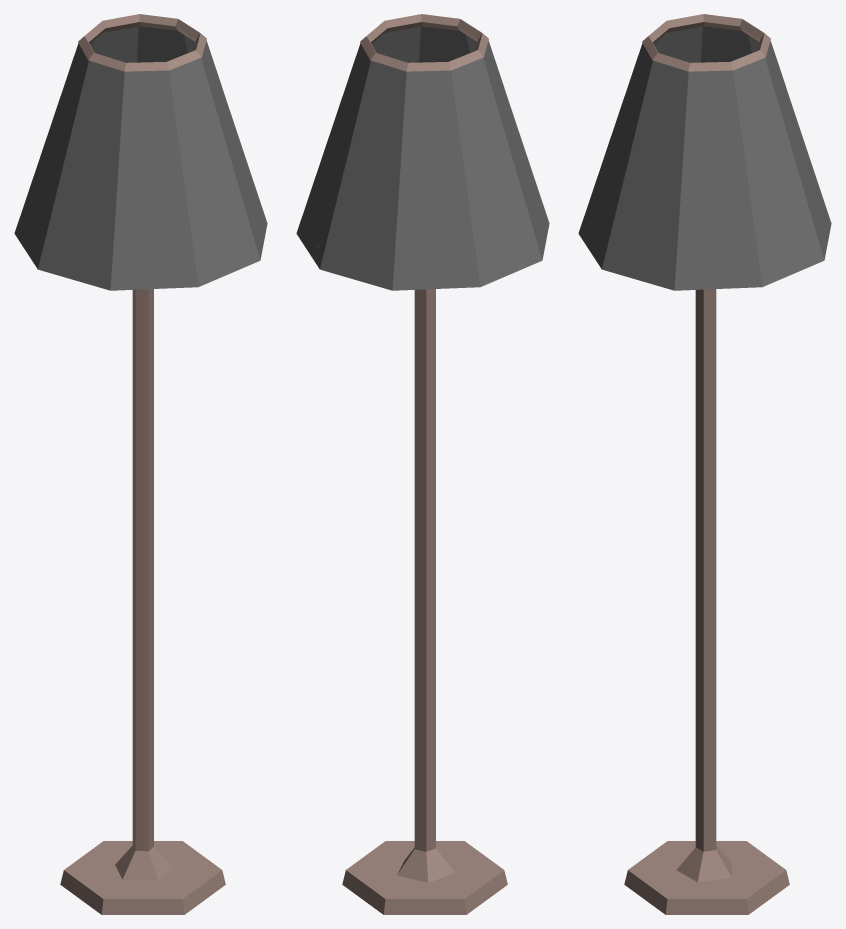
Rendered from Lamp_M_02.fbx.
3 views of the same model, side by side, from view 1: azimuth 30°, elevation 25°; view 2: azimuth 150°, elevation 25°; view 3: azimuth 270°, elevation 25° (orthographic).
Parts seen in each view (by area): view 1: Lamp_M_02; view 2: Lamp_M_02; view 3: Lamp_M_02.
Part boxes in pixels (box(x1,y1,x2,y2)): Lamp_M_02: box(14, 14, 267, 914); Lamp_M_02: box(296, 14, 549, 914); Lamp_M_02: box(578, 14, 831, 914).
Bounding box in the file's own units: 48.15 × 177 × 48.09.
1 material, 1 textured.
